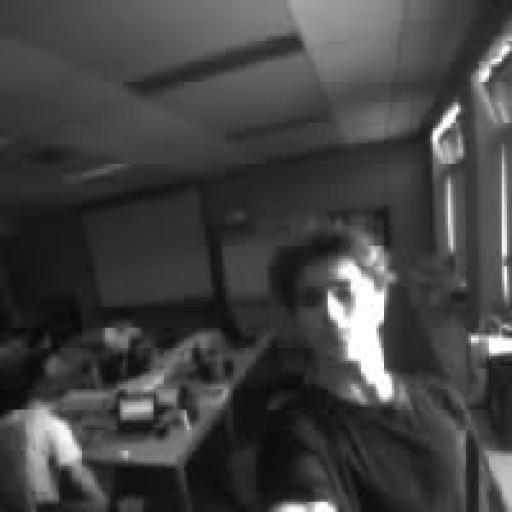human: (256, 226, 504, 511), (0, 359, 107, 511), (98, 308, 162, 368)
